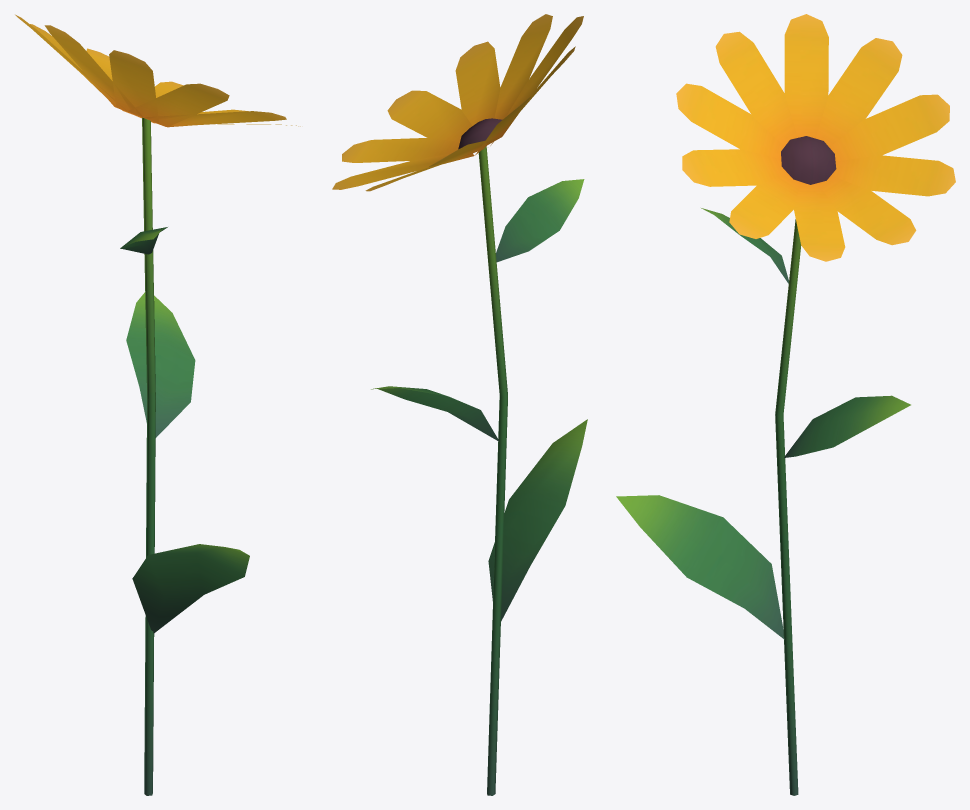
The model's file is flower_011_base_material_0.fbx.
3 views of the same model, side by side, from view 1: azimuth 30°, elevation 25°; view 2: azimuth 150°, elevation 25°; view 3: azimuth 270°, elevation 25° (orthographic). The views are drawn at different scales.
Visible parts, largest first — view 1: flower_011_base_material_0; view 2: flower_011_base_material_0; view 3: flower_011_base_material_0.
Boxes of the visible parts, left/top/right/bottom form: flower_011_base_material_0: left=15, top=14, right=300, bottom=795; flower_011_base_material_0: left=332, top=14, right=587, bottom=795; flower_011_base_material_0: left=616, top=14, right=955, bottom=795.
Bounding box in the file's own units: 0.6505 × 0.8988 × 2.15.
Materials: 1 (1 with a texture image).
